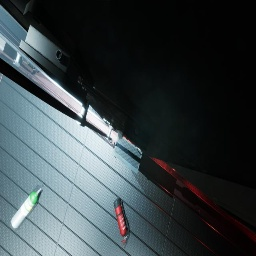0: (11, 188, 42, 228)
EmergencyPhone ,: (112, 121, 124, 140)
FireAlarm ,: (123, 135, 133, 144)
FireExtinguisher ]: (113, 198, 129, 247)
SafetySwitchPanel ,: (0, 37, 6, 55)
